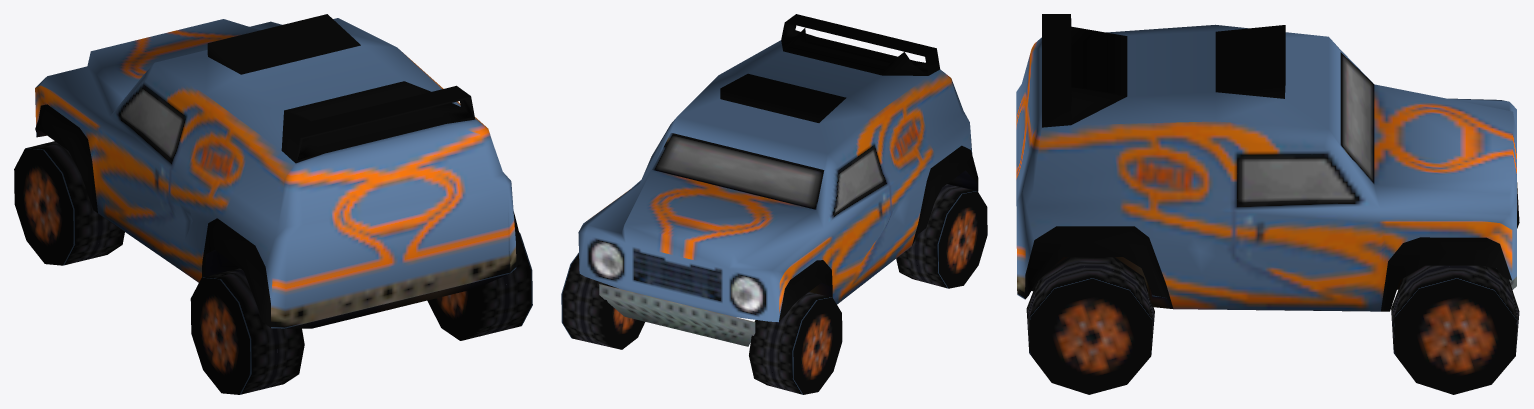
File: MCcopy.ico.obj
3 views of the same model, side by side, from view 1: azimuth 30°, elevation 25°; view 2: azimuth 150°, elevation 25°; view 3: azimuth 270°, elevation 25° (orthographic). The views are drawn at different scales.
Size of the model in its own units: 3.29 by 2.9 by 4.92.
1 material, 1 textured.
